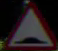Speed Breaker ahead: (3, 5, 50, 43)
